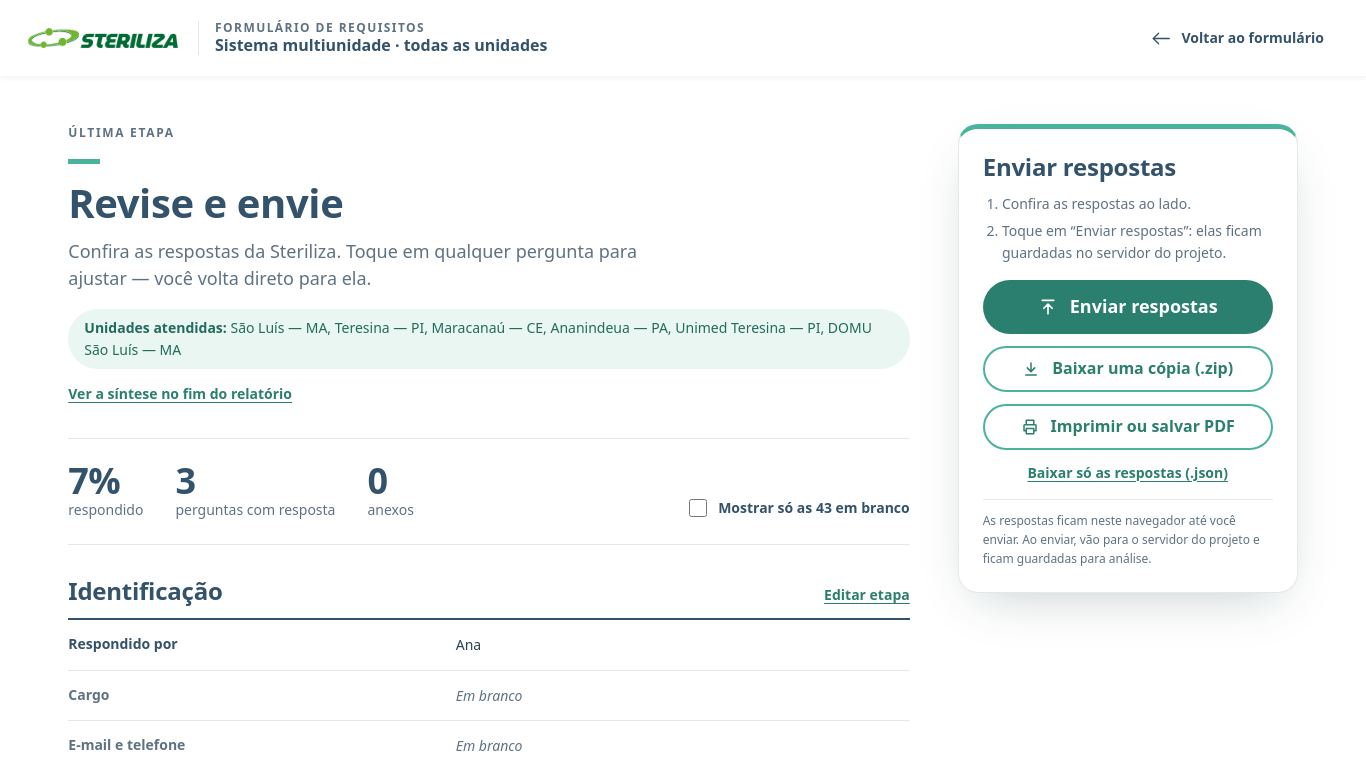
fluxo completo › envia as respostas ao servidor quando ele existe e mostra o protocolo
This screenshot has width=1366, height=768.
Click the button "Enviar respostas" at x=1128, y=307, box top-left (983, 280), bottom-right (1273, 334)
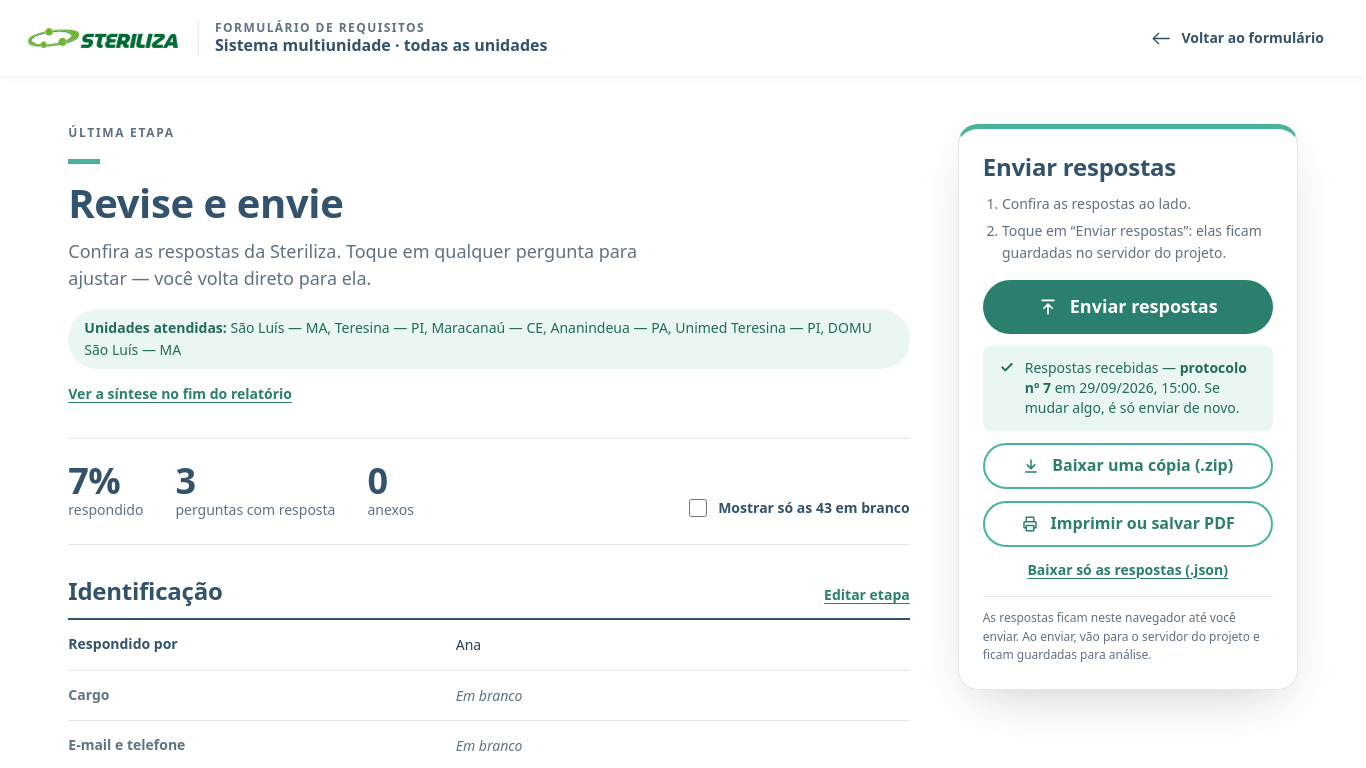
Result: the text "protocolo nº 7" is shown at top-left (1025, 358), bottom-right (1247, 397)
# Baixar uma cópia depois não apaga o protocolo.
Click the button "Baixar uma cópia (.zip)" at x=1128, y=466, box top-left (983, 442), bottom-right (1273, 488)
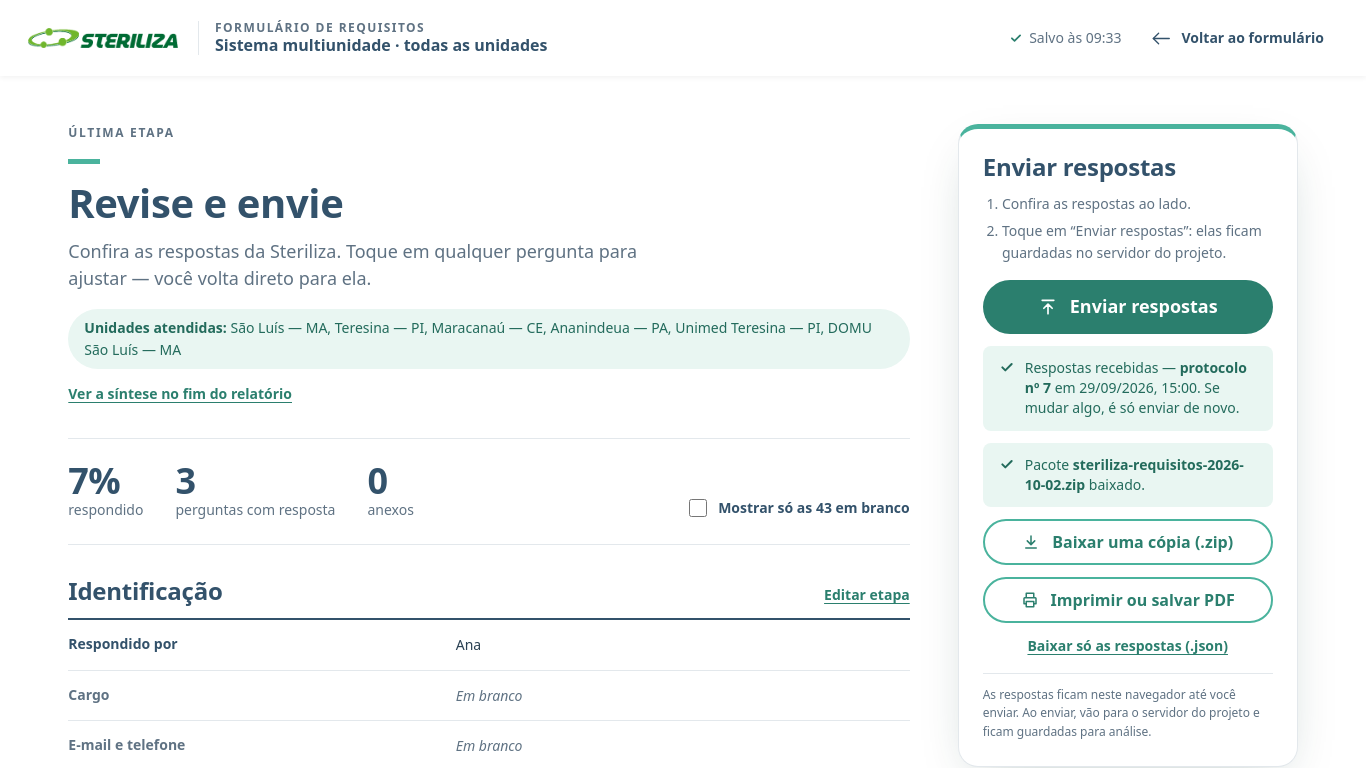
Result: the text "protocolo nº 7" is shown at top-left (1025, 358), bottom-right (1247, 397)
Result: the text "steriliza-requisitos-2026-10-02.zip" is shown at top-left (1025, 454), bottom-right (1244, 494)
